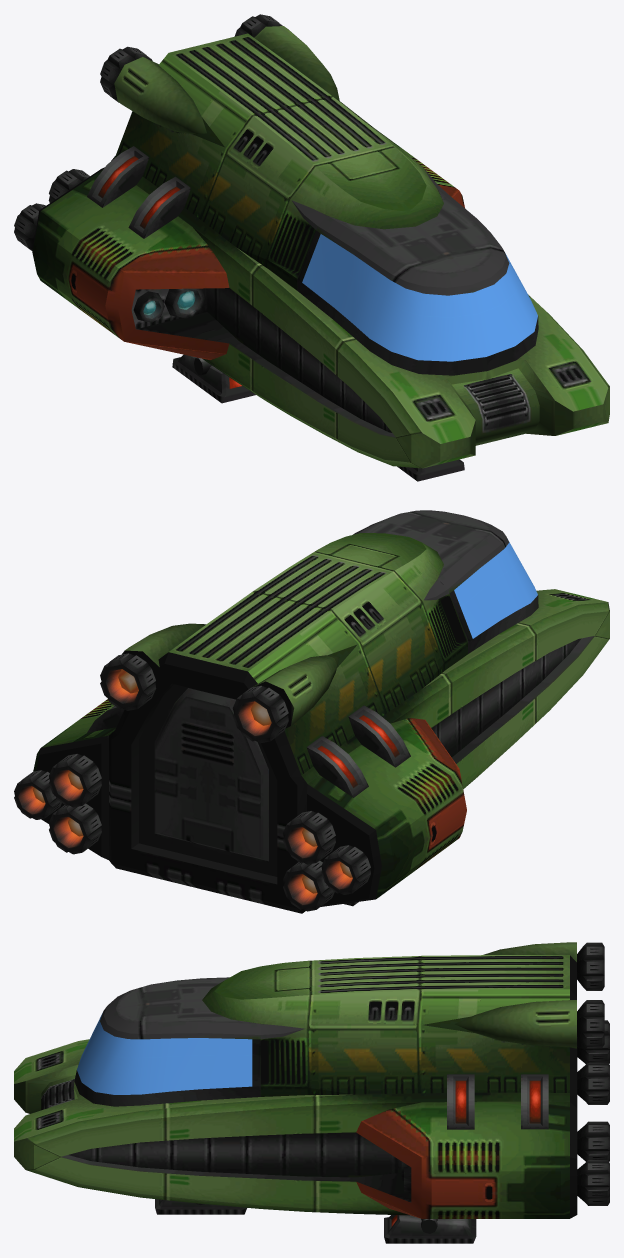
File: bikea-lod0.glb
The picture shows the model from 3 angles, top to bottom: view 1: azimuth 30°, elevation 25°; view 2: azimuth 150°, elevation 25°; view 3: azimuth 270°, elevation 25°; orthographic projection. The views are drawn at different scales.
Parts seen in each view (by area): view 1: CourierShip; view 2: CourierShip; view 3: CourierShip.
Part boxes in pixels (x1,y1,x2,y2): CourierShip: (14,14,609,481); CourierShip: (14,510,609,913); CourierShip: (14,942,609,1243).
Bounding box in the file's own units: 5.38 × 3.73 × 8.66.
2 materials, 2 textured.
